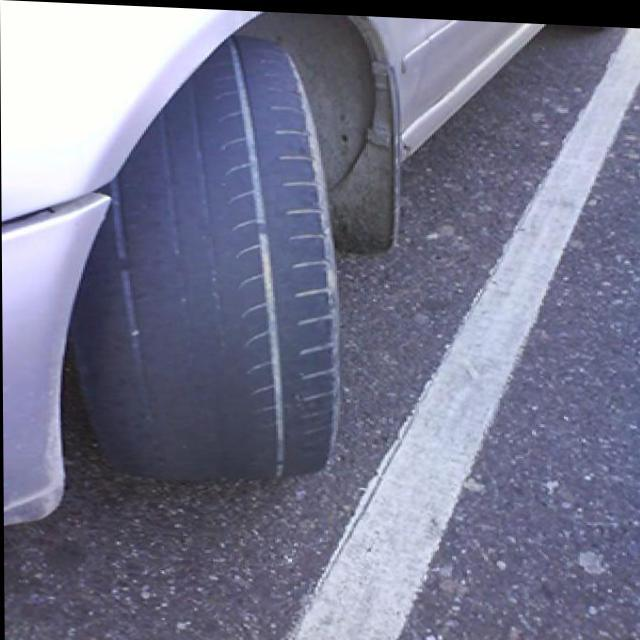Flat spots: (130, 133, 342, 483)
